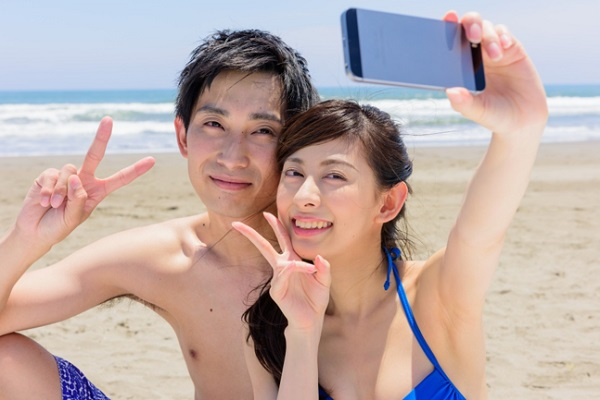face: (277, 136, 407, 262), (174, 67, 283, 216)
hand: (13, 120, 158, 246), (444, 13, 549, 142), (230, 212, 332, 330)
